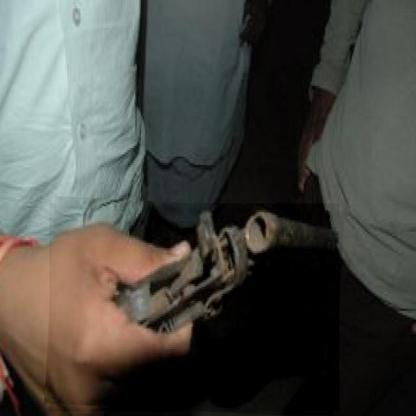handgun: (47, 200, 342, 416)
